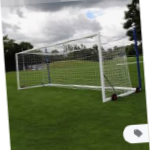goals: (12, 32, 138, 105)
